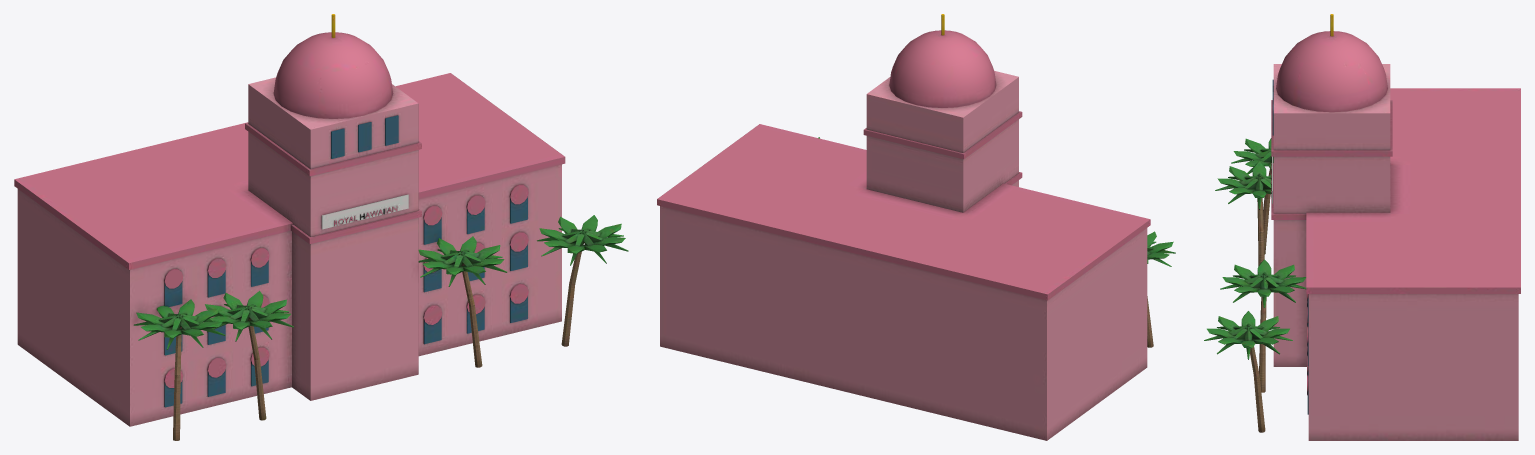
File: royal_hawaiian.glb
3 views of the same model, side by side, from view 1: azimuth 30°, elevation 25°; view 2: azimuth 150°, elevation 25°; view 3: azimuth 270°, elevation 25° (orthographic). The views are drawn at different scales.
Visible parts, largest first — view 1: royal_hawaiian; view 2: royal_hawaiian; view 3: royal_hawaiian.
Part boxes in pixels (x1=…): royal_hawaiian: x1=14, y1=14, x2=628, y2=440; royal_hawaiian: x1=657, y1=14, x2=1175, y2=440; royal_hawaiian: x1=1204, y1=14, x2=1520, y2=440.
Bounding box in the file's own units: 43.63 × 31.03 × 27.17.
Materials: 1 (1 with a texture image).
